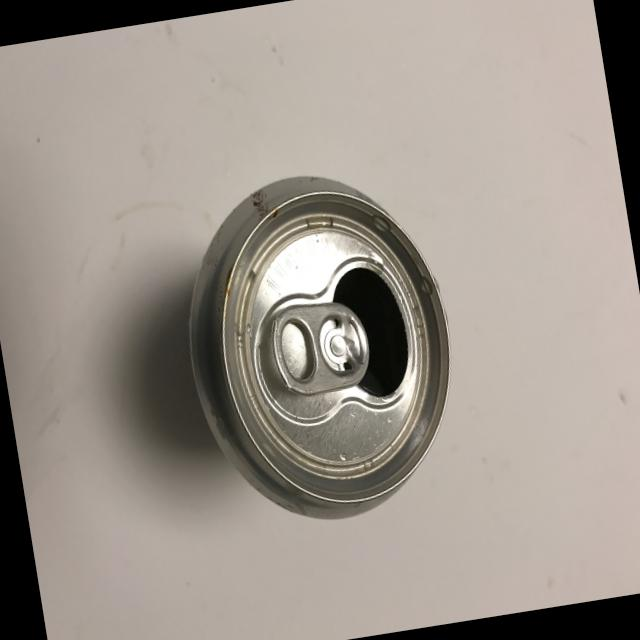Metal: (133, 137, 495, 576)
